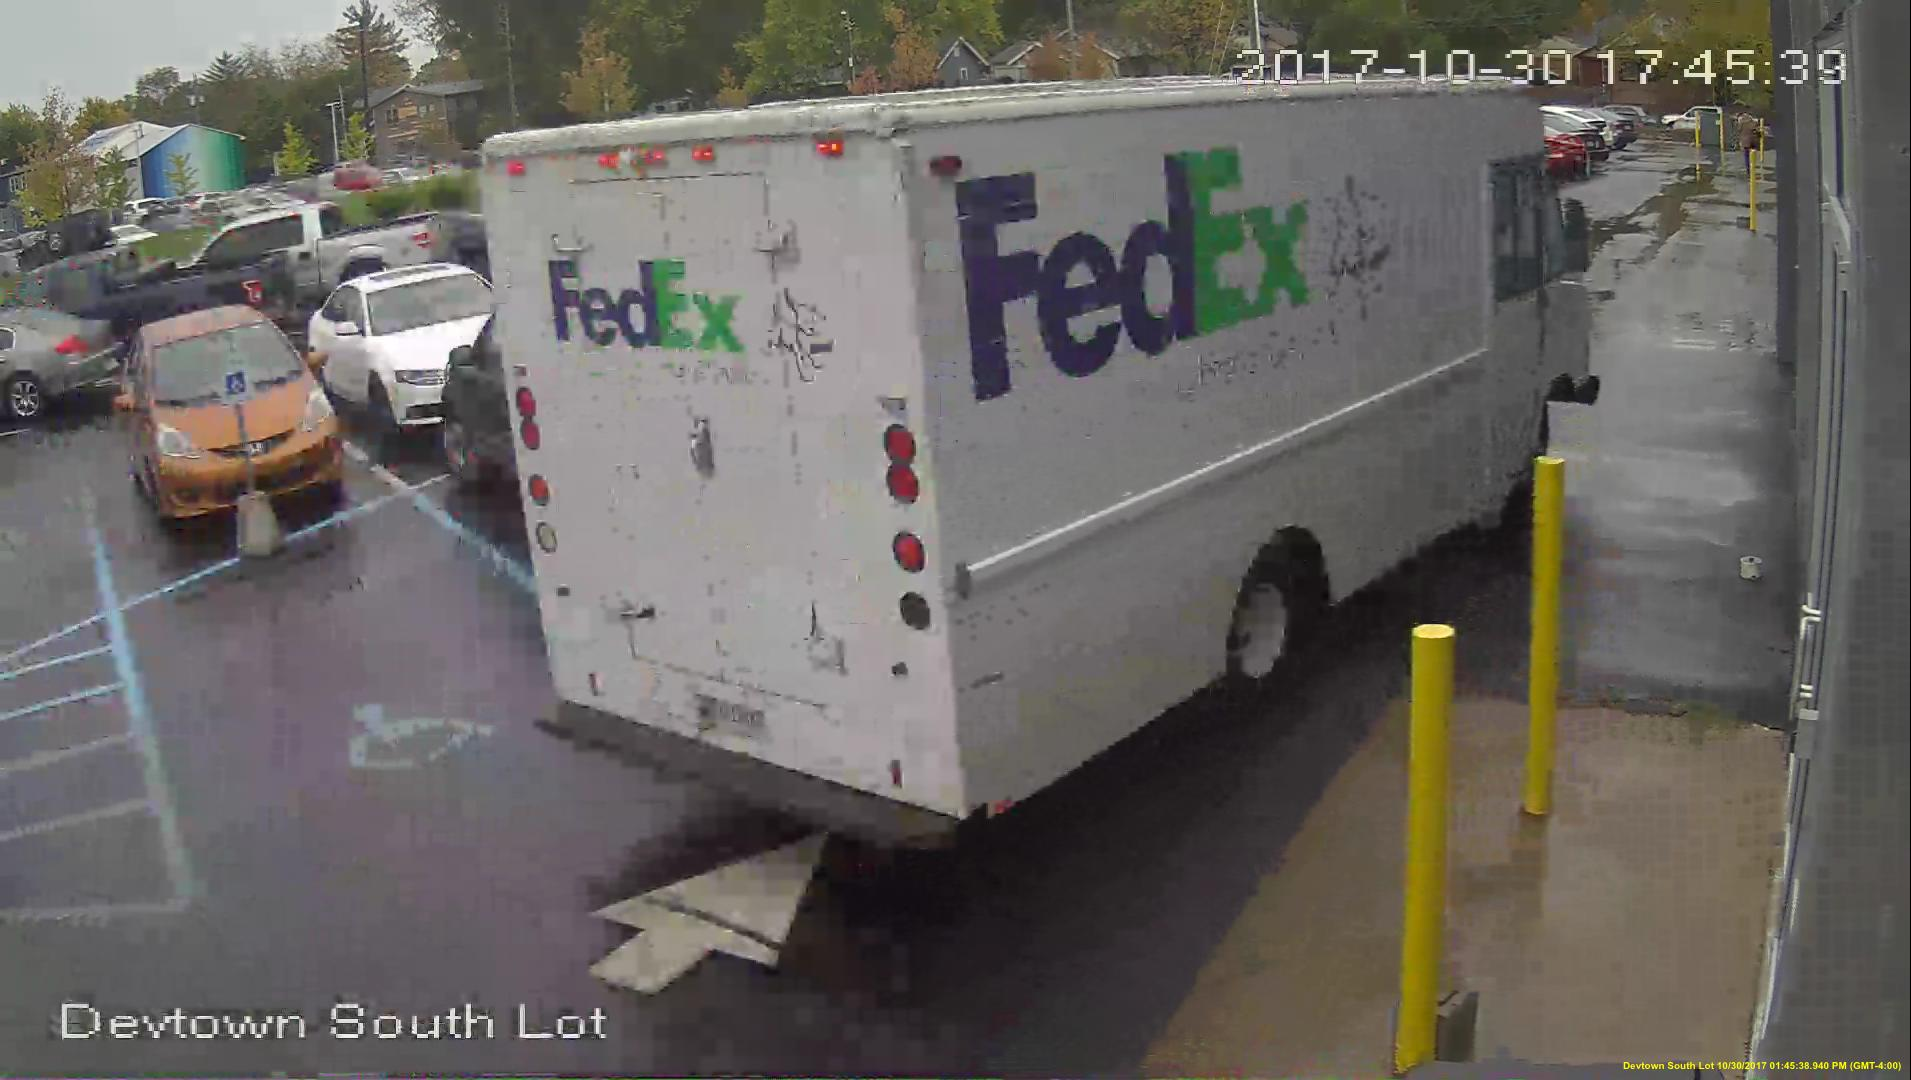fedex_truck: (499, 84, 1587, 846)
